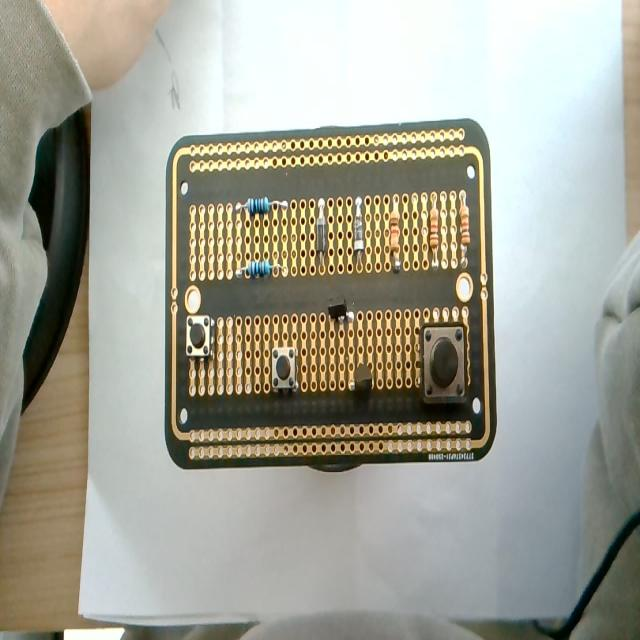diode: (316, 198, 328, 272), (354, 196, 364, 269)
resistor: (453, 188, 475, 266), (424, 190, 442, 270), (388, 193, 403, 270), (234, 196, 287, 216), (235, 260, 283, 279)
switch: (420, 323, 466, 401), (271, 346, 297, 391), (186, 314, 212, 357)
transistor: (326, 295, 356, 331), (350, 361, 372, 393)
